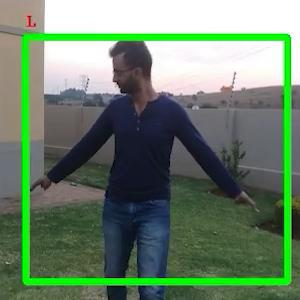land: (24, 29, 262, 294)
